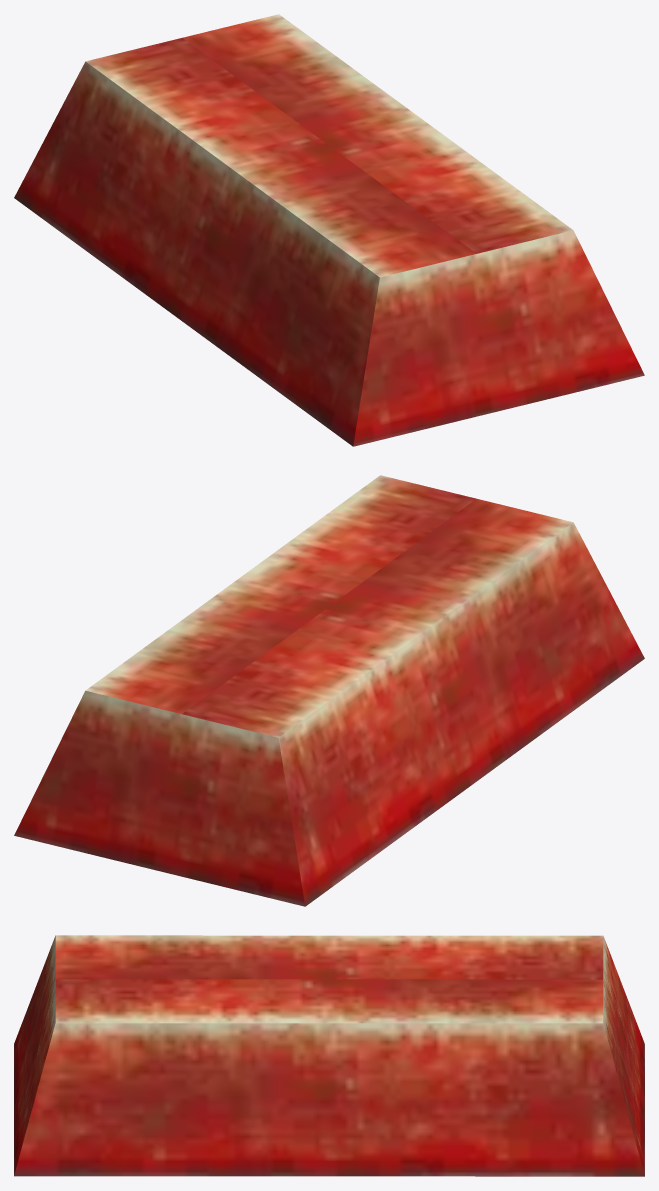
The model's file is SYN_RED_BAR.glb.
The picture shows the model from 3 angles, top to bottom: view 1: azimuth 30°, elevation 25°; view 2: azimuth 150°, elevation 25°; view 3: azimuth 270°, elevation 25°; orthographic projection. The views are drawn at different scales.
Visible parts, largest first — view 1: SYN_RED_BAR; view 2: SYN_RED_BAR; view 3: SYN_RED_BAR.
Boxes of the visible parts, x1,y1,x2,y2 form: SYN_RED_BAR: (14,14,644,446); SYN_RED_BAR: (14,475,644,906); SYN_RED_BAR: (14,935,644,1176).
Bounding box in the file's own units: 0.1875 × 0.0864 × 0.3774.
1 material, 1 textured.
